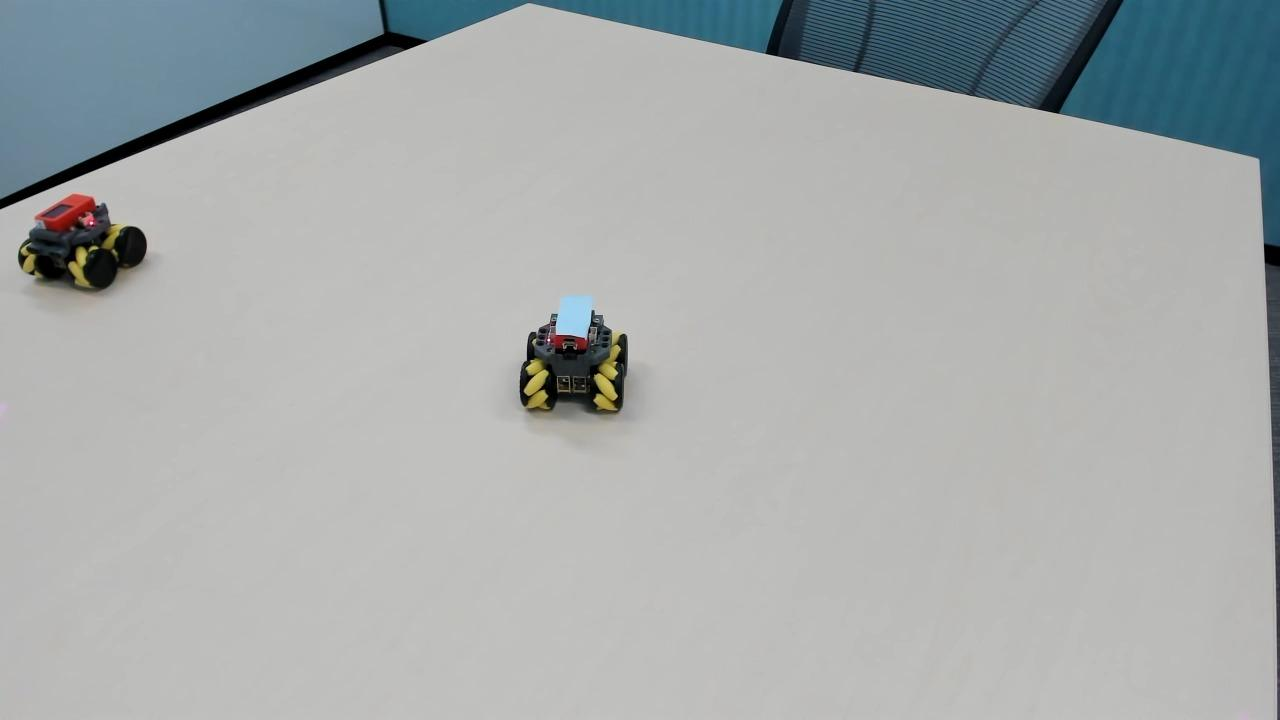B-Robot: (513, 291, 631, 444)
R-Robot: (12, 191, 158, 300)
